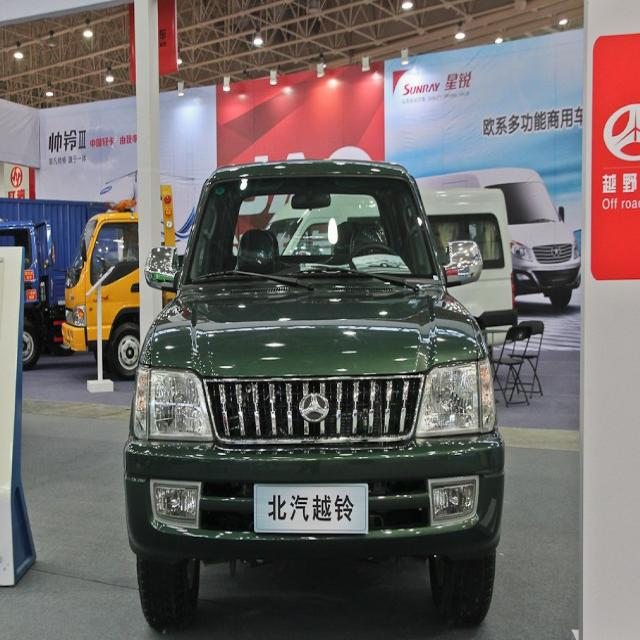front_bumper: (122, 436, 507, 564)
front_glass: (184, 173, 439, 290)
front_left_side_light: (413, 352, 496, 442)
front_left_side_mirror: (443, 236, 483, 294)
front_right_side_light: (129, 359, 216, 448)
front_right_side_mirror: (143, 242, 180, 296)
